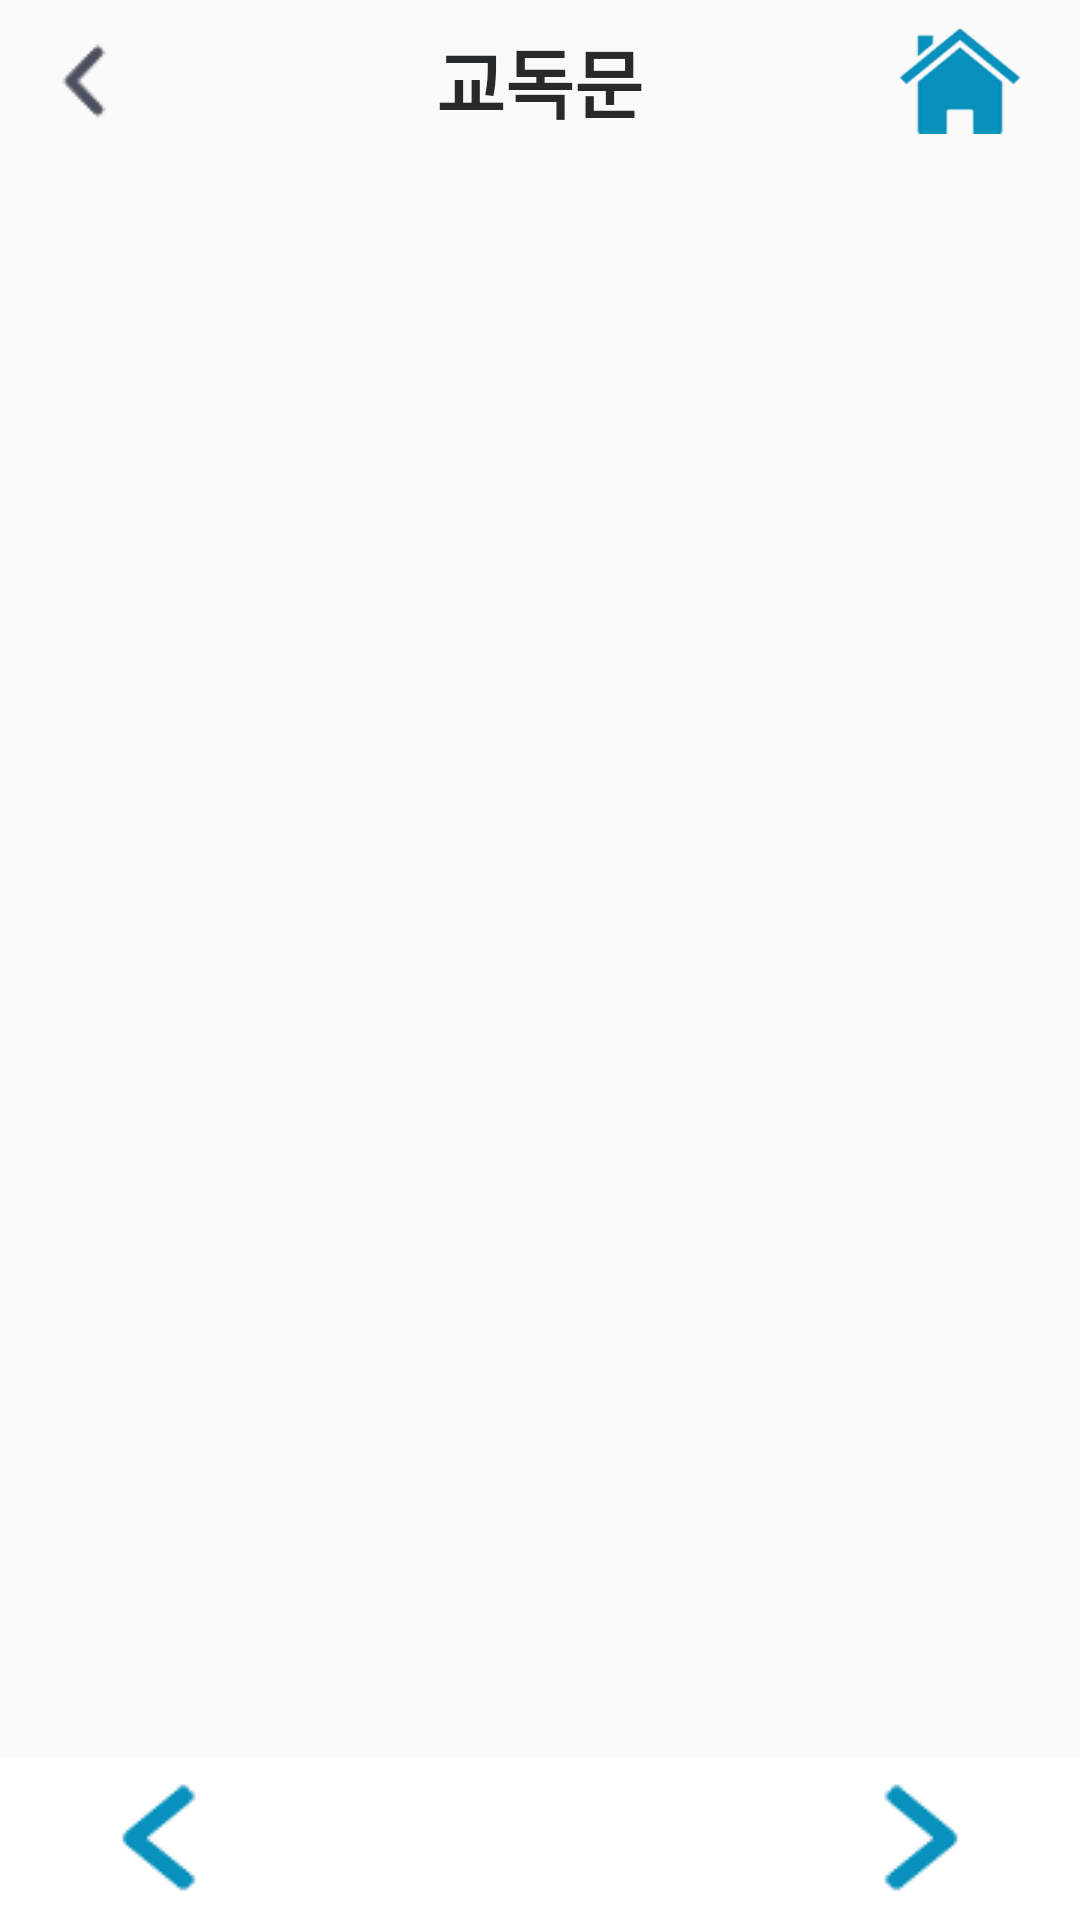

Icons on this 1080*1920 Android screen, each with the point to tap as point (x, y):
arrow back: point (84, 81)
back page: point (159, 1837)
home: point (960, 81)
next page: point (921, 1837)
